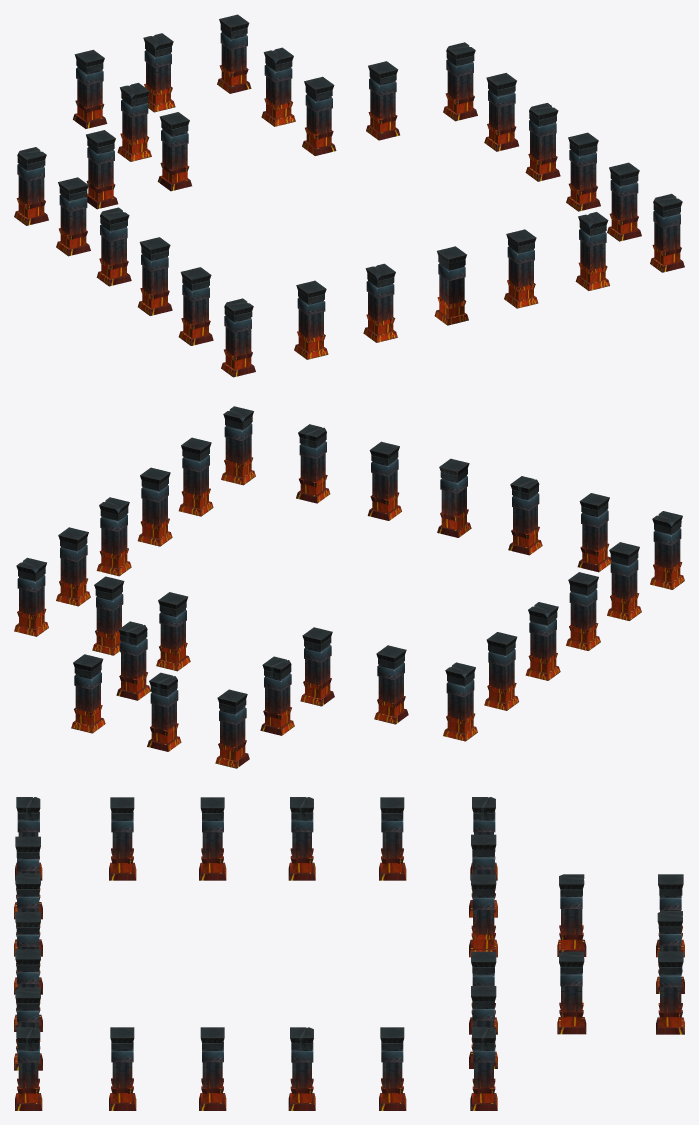
The model's file is chnagjing_sjb_01_a.FBX.
3 views of the same model, one above another, from view 1: azimuth 30°, elevation 25°; view 2: azimuth 150°, elevation 25°; view 3: azimuth 270°, elevation 25° (orthographic). The views are drawn at different scales.
Parts seen in each view (by area): view 1: chnagjing_sjb_01_a; view 2: chnagjing_sjb_01_a; view 3: chnagjing_sjb_01_a.
Part boxes in pixels (<box>): chnagjing_sjb_01_a: <box>14,14,684,377</box>; chnagjing_sjb_01_a: <box>14,406,684,768</box>; chnagjing_sjb_01_a: <box>14,797,684,1110</box>.
Size of the model in its own units: 2218 by 2593 by 307.
